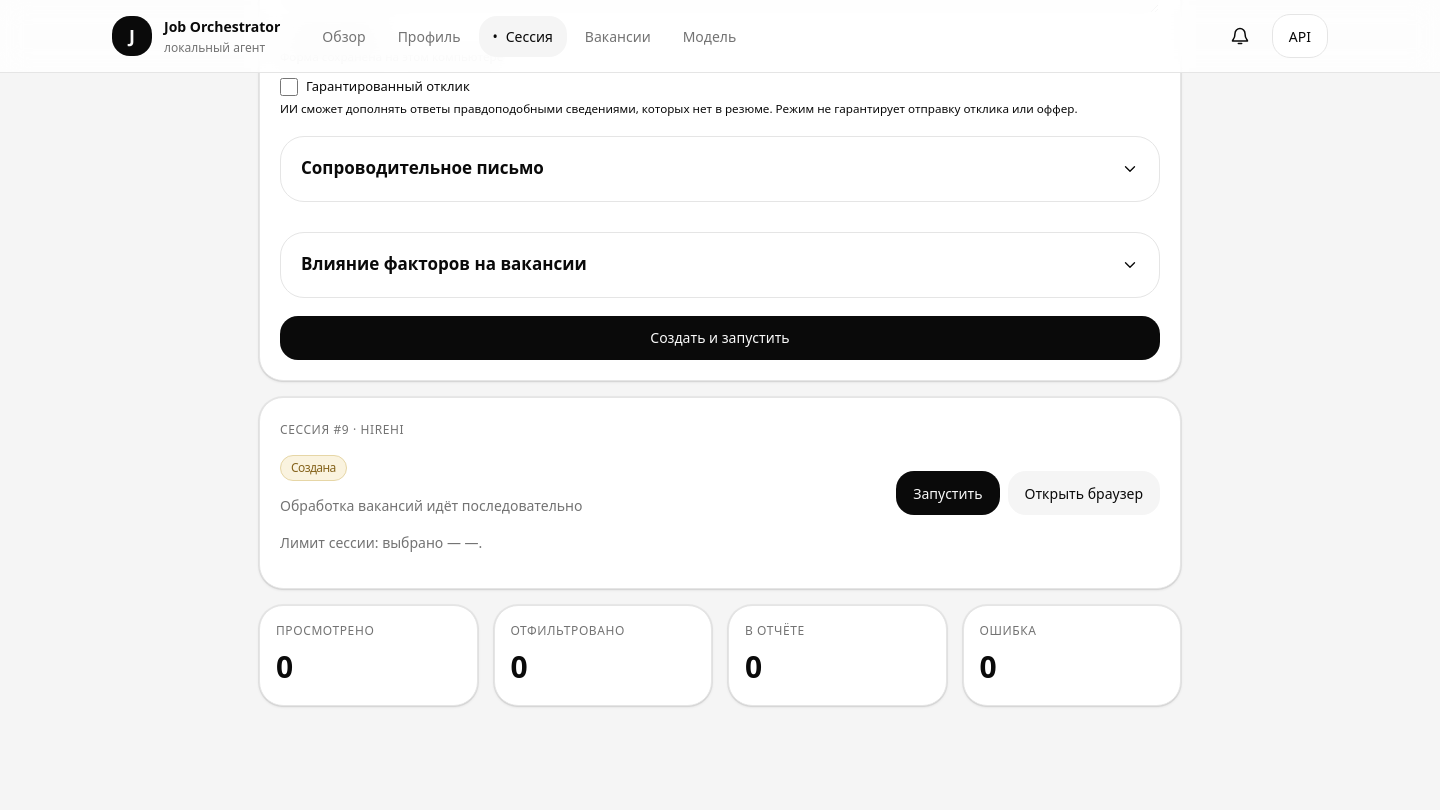
Scenario: starting an existing session checks the source for that session's own site
(page scrolled)
Step 1. Click the button "Запустить" → x=948, y=493, box [896, 471, 1000, 515]
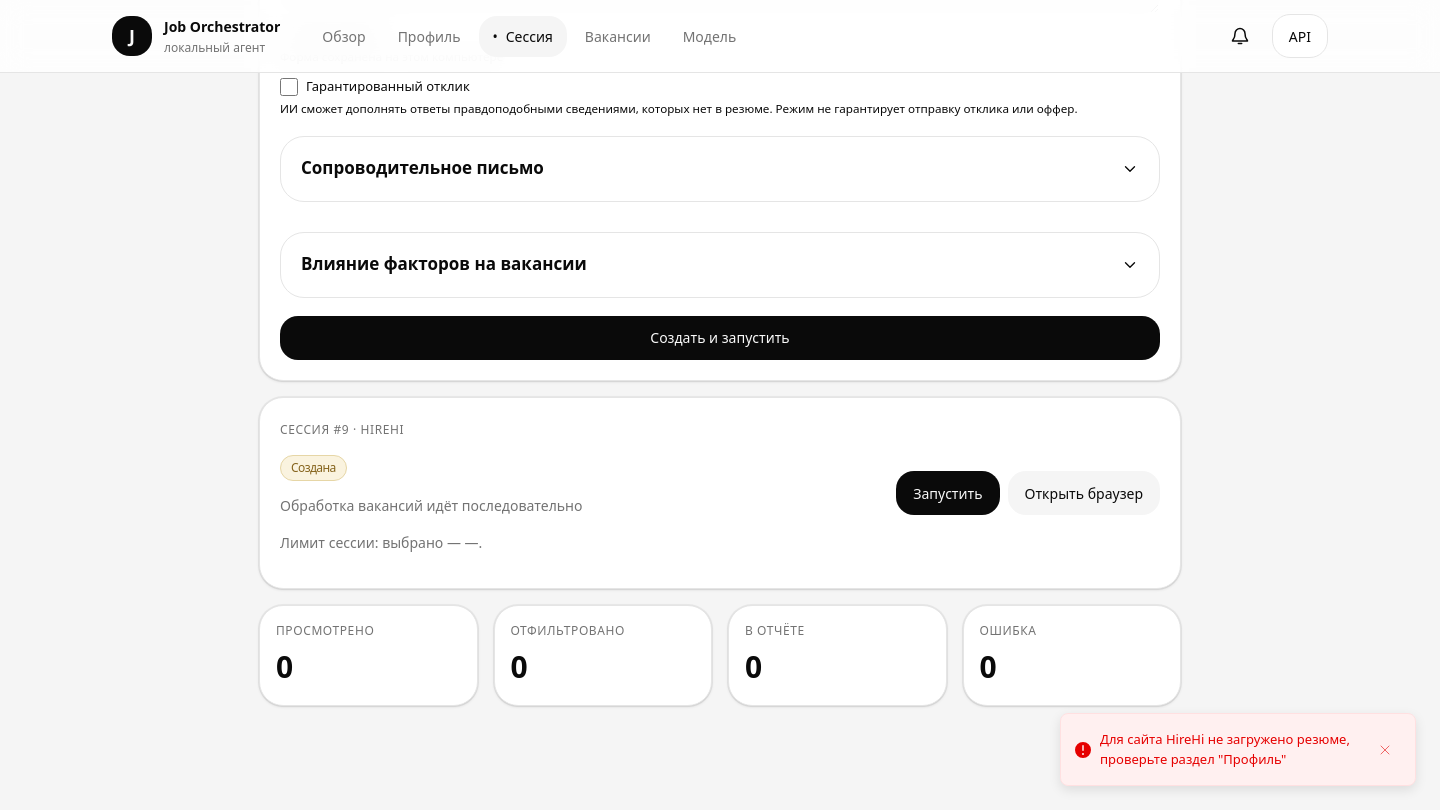
Now the text "Для сайта HireHi не загружено резюме, проверьте раздел \"Профиль\"" is shown, box [1100, 730, 1353, 769]
